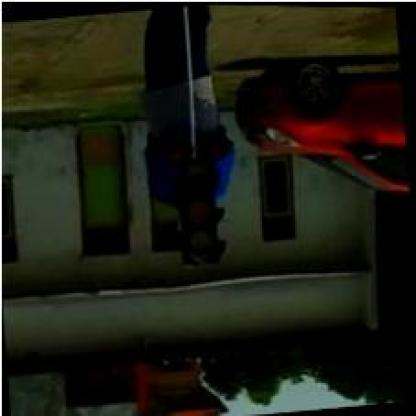yellow: (172, 155, 228, 266)
